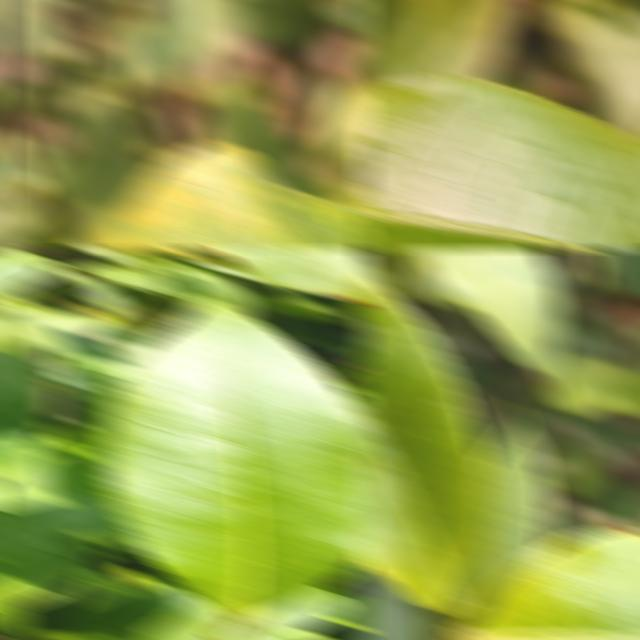Leaf: (99, 297, 370, 619), (358, 75, 640, 250), (358, 273, 493, 612), (63, 142, 370, 250), (415, 248, 564, 389), (451, 529, 640, 640), (463, 417, 554, 614), (358, 0, 520, 96), (533, 0, 640, 141), (0, 494, 129, 606), (113, 0, 250, 91), (28, 586, 232, 640), (0, 340, 52, 476), (225, 590, 349, 640), (358, 565, 431, 640), (554, 409, 614, 496), (311, 77, 370, 165), (547, 355, 623, 417), (611, 248, 640, 299), (610, 370, 640, 419)
